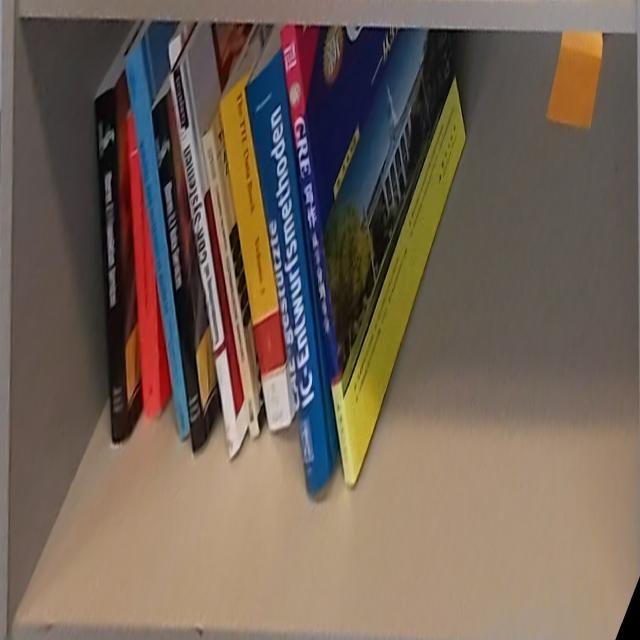Book Spine: (245, 50, 331, 498), (280, 20, 356, 482), (168, 58, 241, 462), (125, 39, 191, 444), (219, 74, 293, 431), (151, 95, 206, 453), (202, 125, 260, 439), (94, 87, 129, 444)
